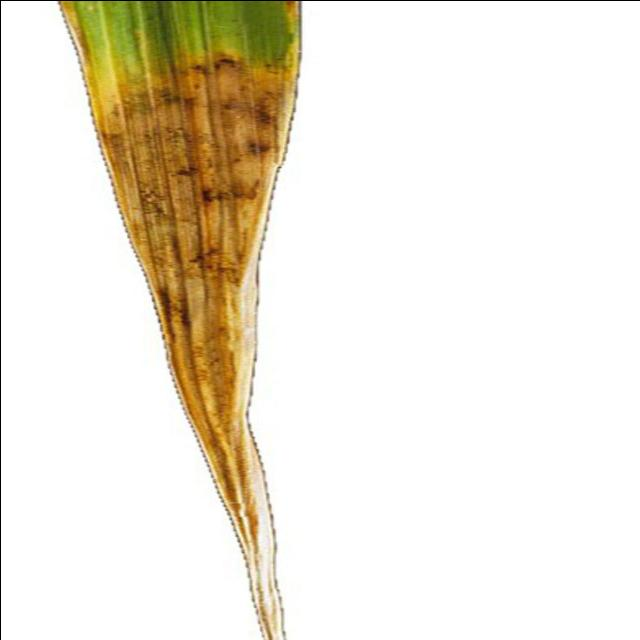Leaf scald: (0, 0, 349, 640)
